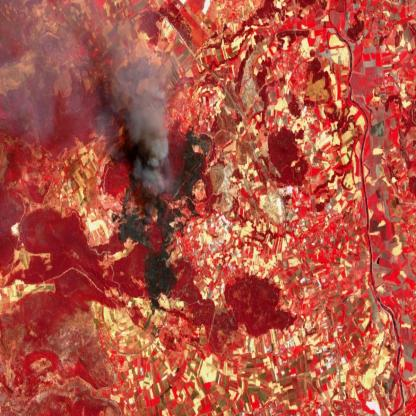fire: (110, 134, 176, 258)
